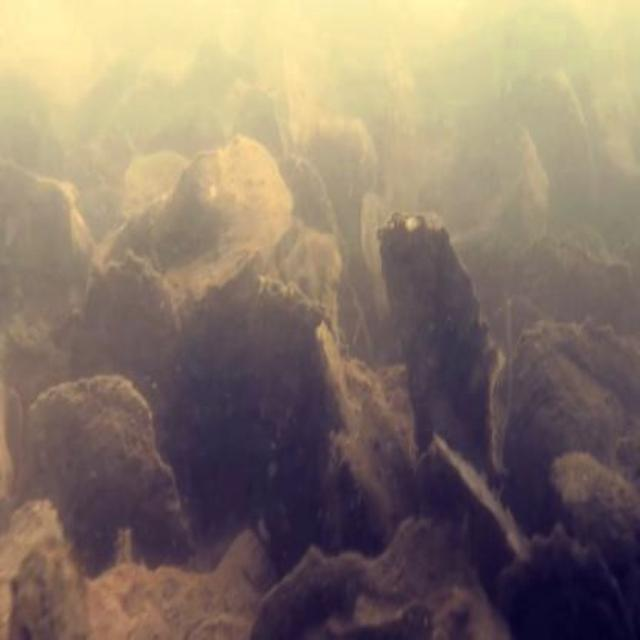Oyster-Closed: (381, 212, 505, 494), (104, 139, 292, 313), (255, 513, 510, 640), (27, 375, 195, 552), (72, 252, 192, 417), (496, 527, 635, 640), (545, 452, 640, 567), (225, 278, 323, 378)
